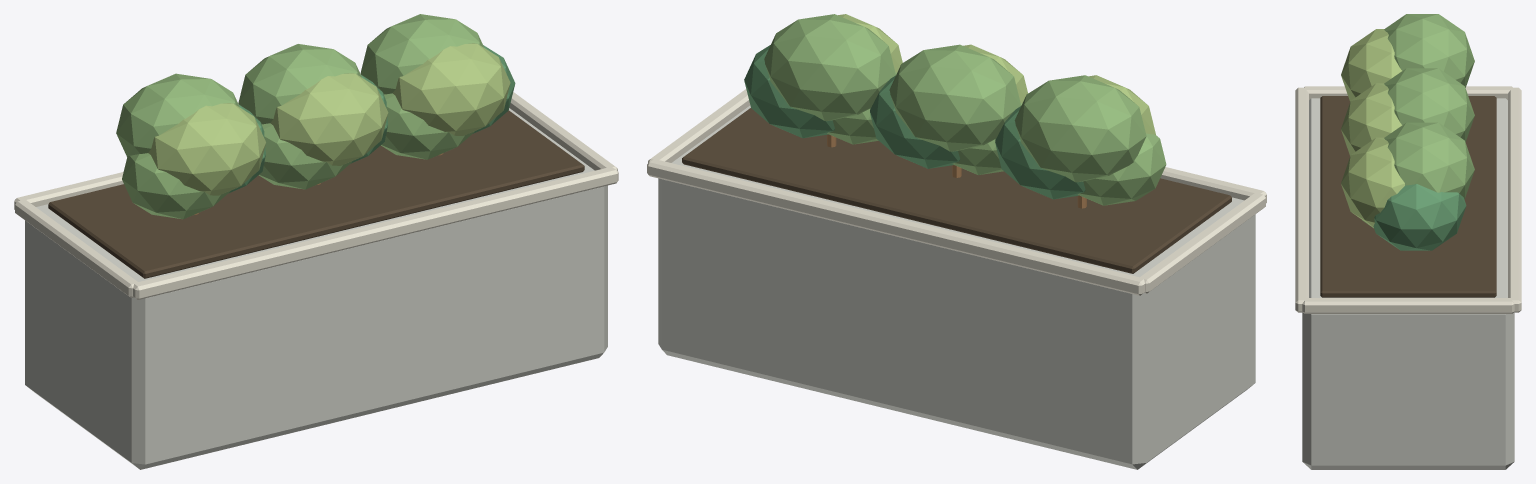
File: Planter_Street_Large.glb
3 renders of one model, left to right at view 1: azimuth 30°, elevation 25°; view 2: azimuth 150°, elevation 25°; view 3: azimuth 270°, elevation 25°, orthographic. The views are drawn at different scales.
Visible parts, largest first — view 1: Planter_Street_Large; view 2: Planter_Street_Large; view 3: Planter_Street_Large.
Boxes of the visible parts, x1,y1,x2,y2 form: Planter_Street_Large: (14, 14, 618, 469); Planter_Street_Large: (647, 14, 1266, 469); Planter_Street_Large: (1295, 14, 1521, 469).
Size of the model in its own units: 1.69 by 1.06 by 0.745.
